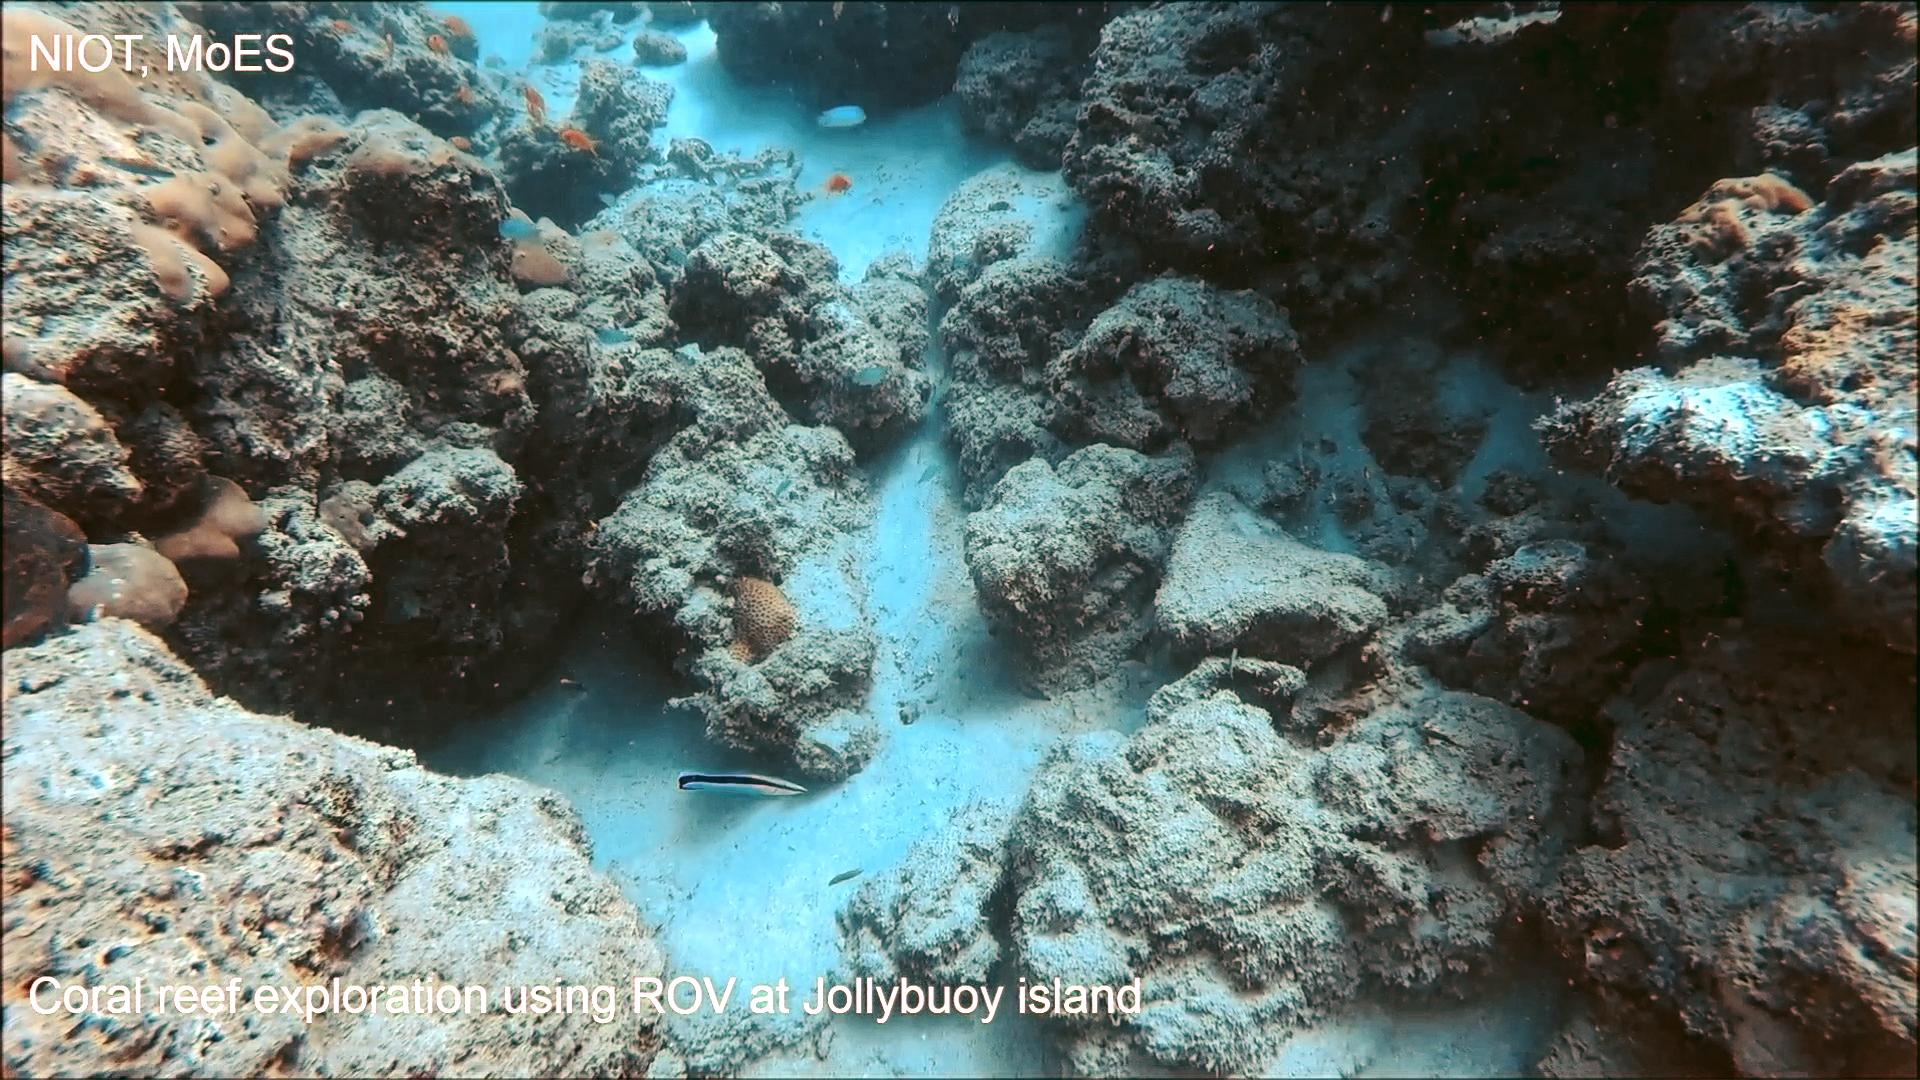Porites-Porites pukoensis: (0, 0, 352, 322)
